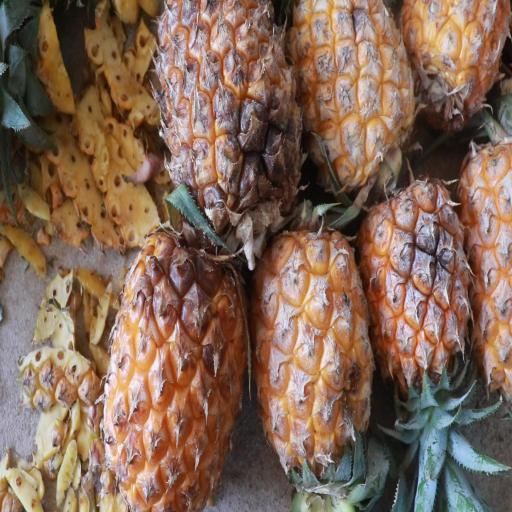Pineapple - v8 v1: (101, 219, 249, 510), (156, 1, 304, 246), (248, 215, 377, 480), (290, 0, 420, 205), (354, 173, 478, 385), (404, 0, 512, 148)
